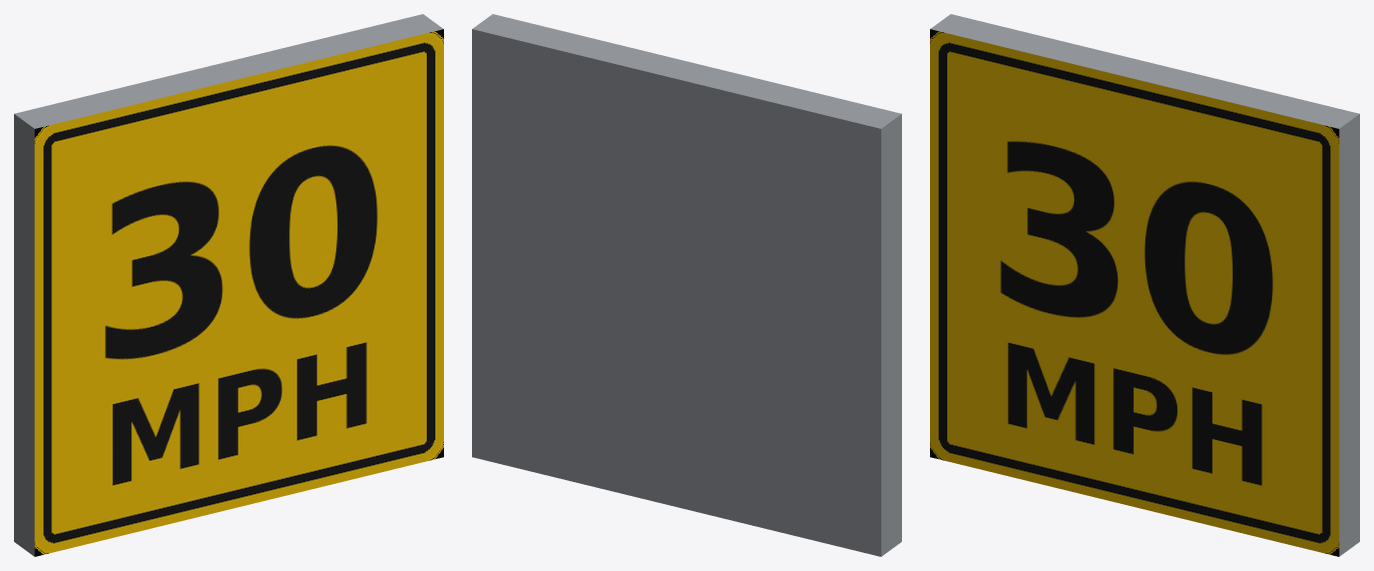
Rendered from us_advisory30.dae.
3 renders of one model, left to right at view 1: azimuth 30°, elevation 25°; view 2: azimuth 150°, elevation 25°; view 3: azimuth 330°, elevation 25°, orthographic.
Parts seen in each view (by area): view 1: sign4, Colmesh-1; view 2: Colmesh-1; view 3: sign4, Colmesh-1.
Part boxes in pixels (box(x1,y1,x2,y2)): sign4: box(34, 29, 443, 556); Colmesh-1: box(14, 14, 443, 556); Colmesh-1: box(472, 14, 901, 556); sign4: box(930, 29, 1339, 556); Colmesh-1: box(930, 14, 1359, 556).
Bounding box in the file's own units: 0.4572 × 0.04 × 0.4572.
2 materials, 1 textured.
